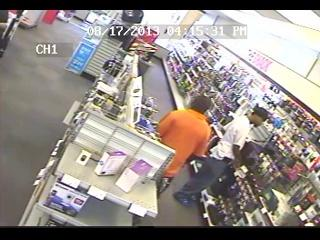Normal: (179, 107, 269, 201), (156, 100, 219, 197)
